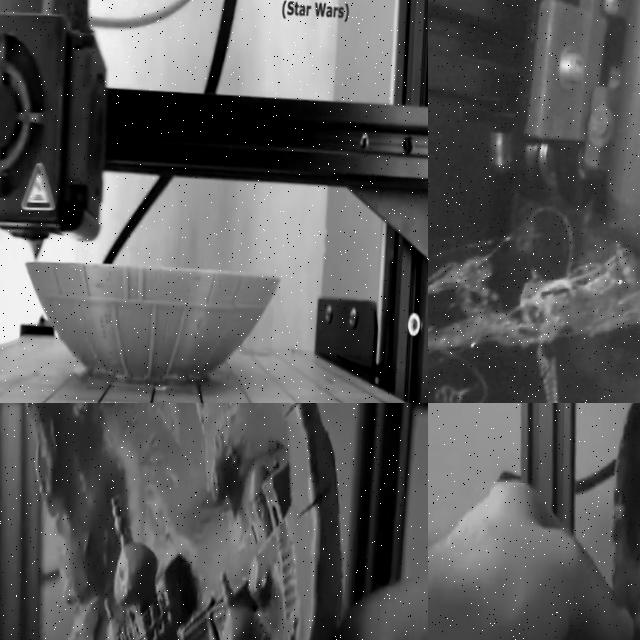spaghetti: (428, 239, 640, 403), (428, 243, 640, 403)
